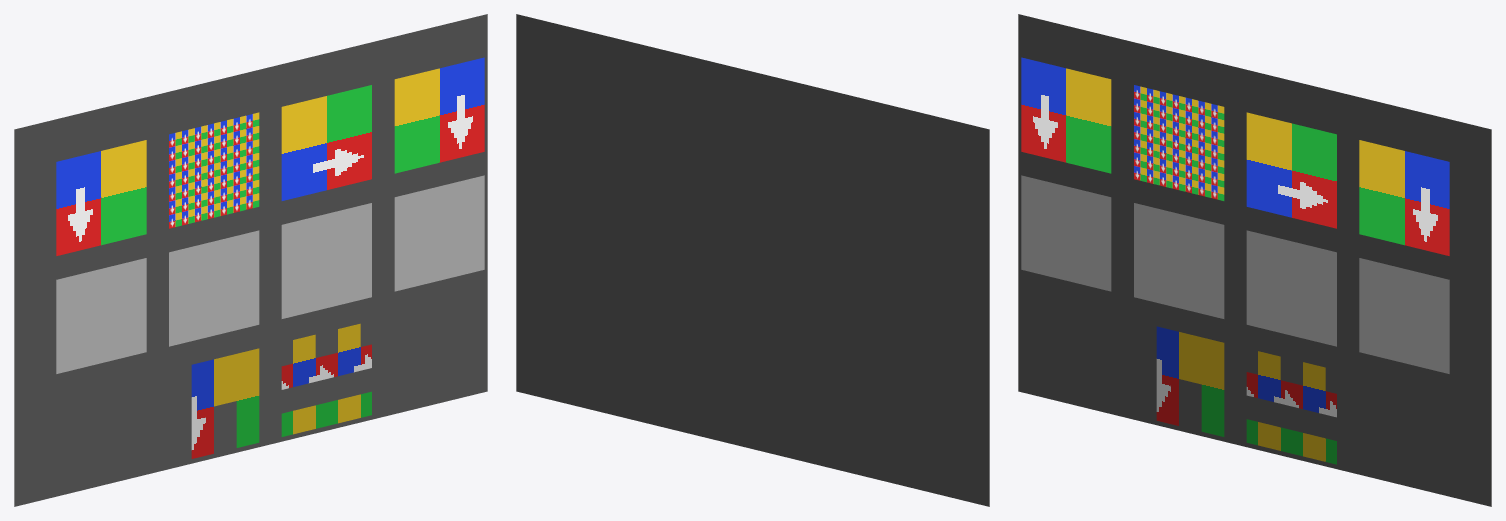
Rendered from TextureTransformTest.gltf.
3 renders of one model, left to right at view 1: azimuth 30°, elevation 25°; view 2: azimuth 150°, elevation 25°; view 3: azimuth 330°, elevation 25°, orthographic.
Parts seen in each view (by area): view 1: Shadow receiver, A2 Emissive Scale seven, A4 Emissive Mirror U, B1 Normal Identity, B3 Normal Mirror U, A1 Emissive Identity, B2 Normal Rotate ninety, B4 Normal Zero scale, A3 Emissive Rotate ninety, C1 Alpha Identity, C2 Alpha Scale rotate offset; view 2: Shadow receiver; view 3: Shadow receiver, A3 Emissive Rotate ninety, A1 Emissive Identity, B2 Normal Rotate ninety, B4 Normal Zero scale, A4 Emissive Mirror U, B1 Normal Identity, B3 Normal Mirror U, A2 Emissive Scale seven, C1 Alpha Identity, C2 Alpha Scale rotate offset.
Part boxes in pixels (<box>): Shadow receiver: <box>14,14,487,506</box>; A2 Emissive Scale seven: <box>169,112,259,228</box>; A4 Emissive Mirror U: <box>394,57,484,173</box>; B1 Normal Identity: <box>56,258,146,373</box>; B3 Normal Mirror U: <box>281,203,371,318</box>; A1 Emissive Identity: <box>56,140,146,255</box>; B2 Normal Rotate ninety: <box>169,230,259,346</box>; B4 Normal Zero scale: <box>394,175,484,291</box>; A3 Emissive Rotate ninety: <box>281,85,371,200</box>; C1 Alpha Identity: <box>191,348,259,458</box>; C2 Alpha Scale rotate offset: <box>281,323,371,436</box>; Shadow receiver: <box>516,14,989,506</box>; Shadow receiver: <box>1018,14,1491,506</box>; A3 Emissive Rotate ninety: <box>1246,112,1336,228</box>; A1 Emissive Identity: <box>1021,57,1111,173</box>; B2 Normal Rotate ninety: <box>1134,203,1224,318</box>; B4 Normal Zero scale: <box>1359,258,1449,373</box>; A4 Emissive Mirror U: <box>1359,140,1449,255</box>; B1 Normal Identity: <box>1021,175,1111,291</box>; B3 Normal Mirror U: <box>1246,230,1336,346</box>; A2 Emissive Scale seven: <box>1134,85,1224,200</box>; C1 Alpha Identity: <box>1156,326,1224,436</box>; C2 Alpha Scale rotate offset: <box>1246,351,1336,464</box>.
Bounding box in the file's own units: 10.5 × 8 × 0.75.
11 materials, 6 textured.
